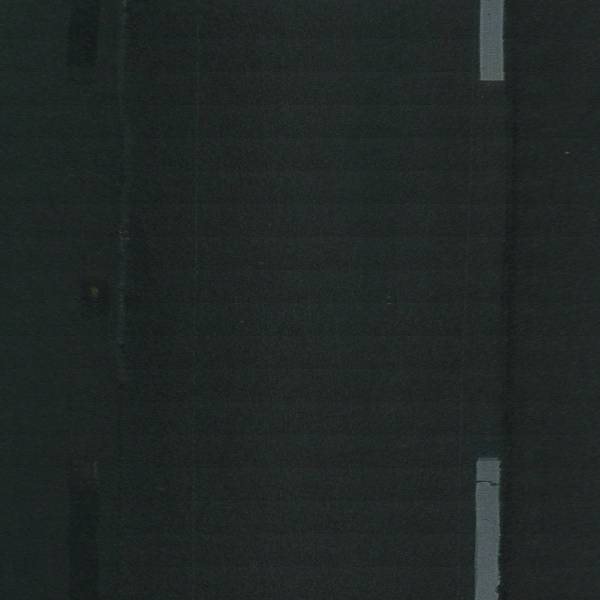road_damage: (109, 1, 134, 381)
